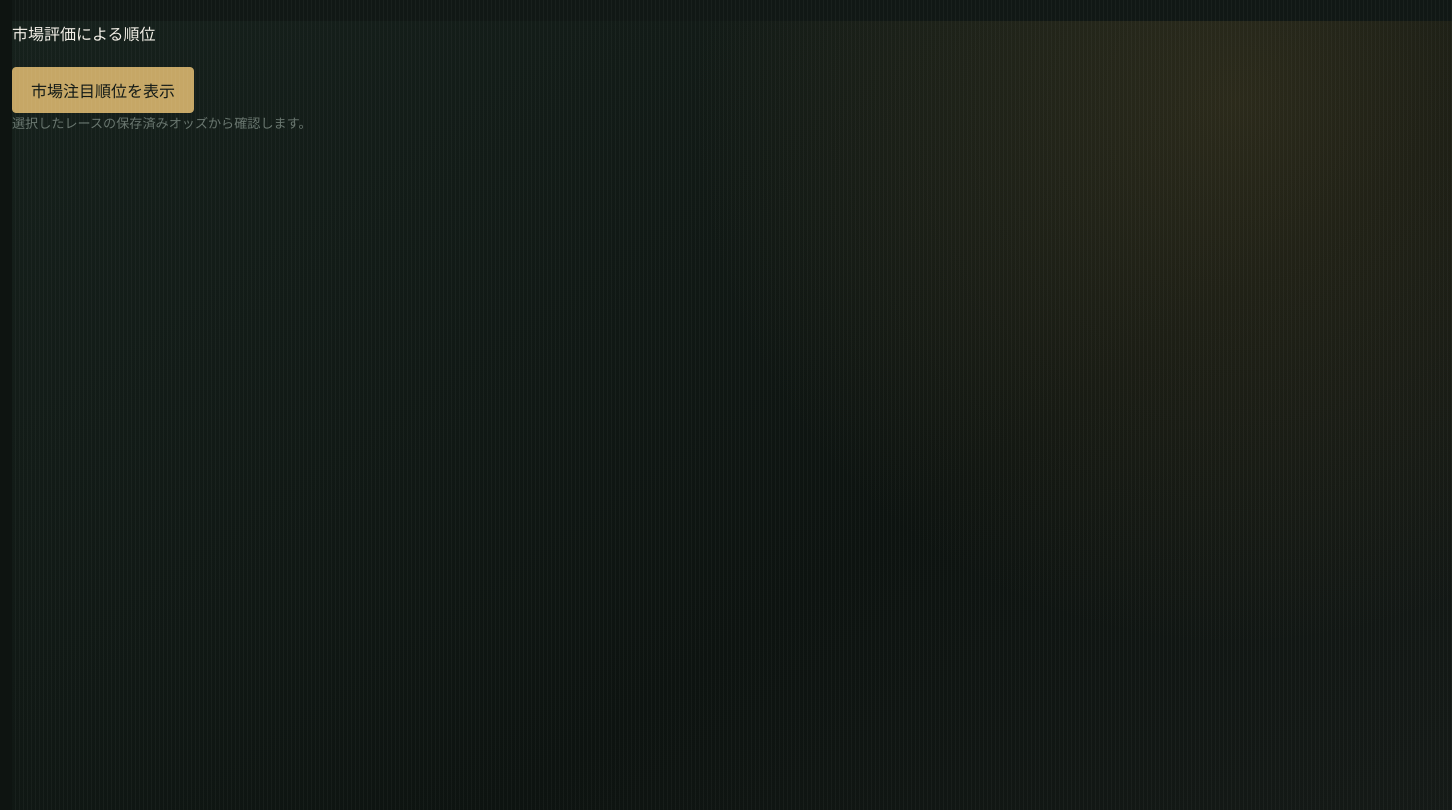
MarketAttentionPanel › shows the latest ranking and reloads a selected saved snapshot
The width and height of the screenshot is (1452, 810).
Later steps or results of the test are not shown.
Click the button "市場注目順位を表示" at (103, 90), box [12,66,194,112]
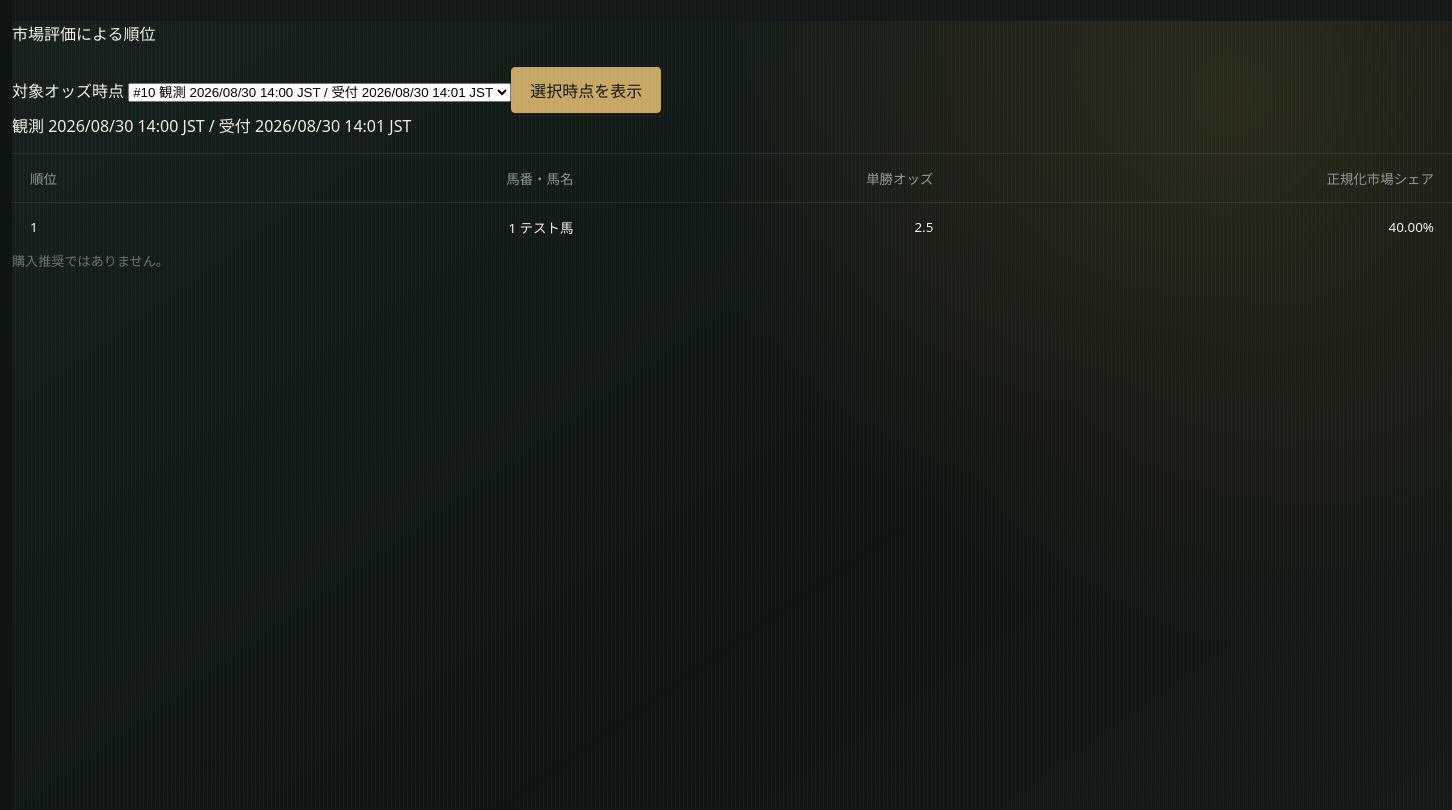
Expected: the text "1 テスト馬" is shown, [231,202,591,250]
Expected: the text "購入推奨ではありません。" is shown, [12,252,169,270]
